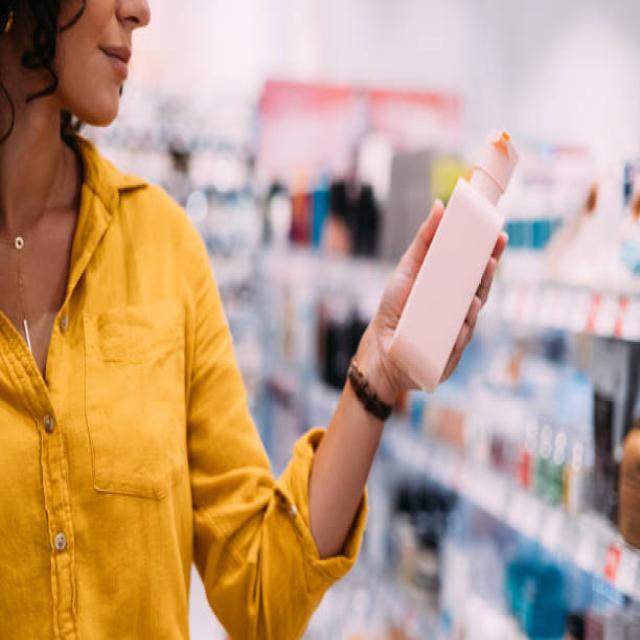article: (390, 130, 518, 391)
hands: (356, 201, 441, 403), (308, 383, 384, 557), (440, 234, 506, 380)
person: (0, 0, 442, 638)
